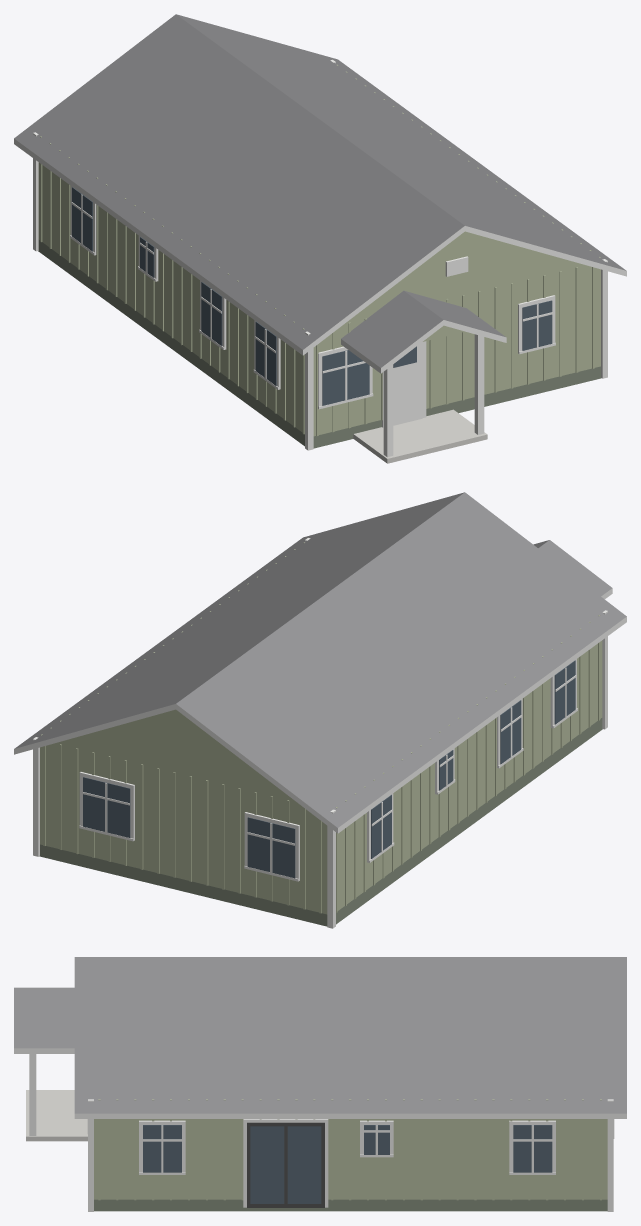
Rendered from almond-sage.glb.
3 renders of one model, top to bottom at view 1: azimuth 30°, elevation 25°; view 2: azimuth 150°, elevation 25°; view 3: azimuth 270°, elevation 25°, orthographic. The views are drawn at different scales.
Parts seen in each view (by area): view 1: The Almond (sage); view 2: The Almond (sage); view 3: The Almond (sage).
Part boxes in pixels (x1,y1,x2,y2): The Almond (sage): [14, 14, 626, 463]; The Almond (sage): [14, 492, 626, 928]; The Almond (sage): [14, 957, 626, 1211].
Size of the model in its own units: 8.38 by 4.8 by 14.38.
